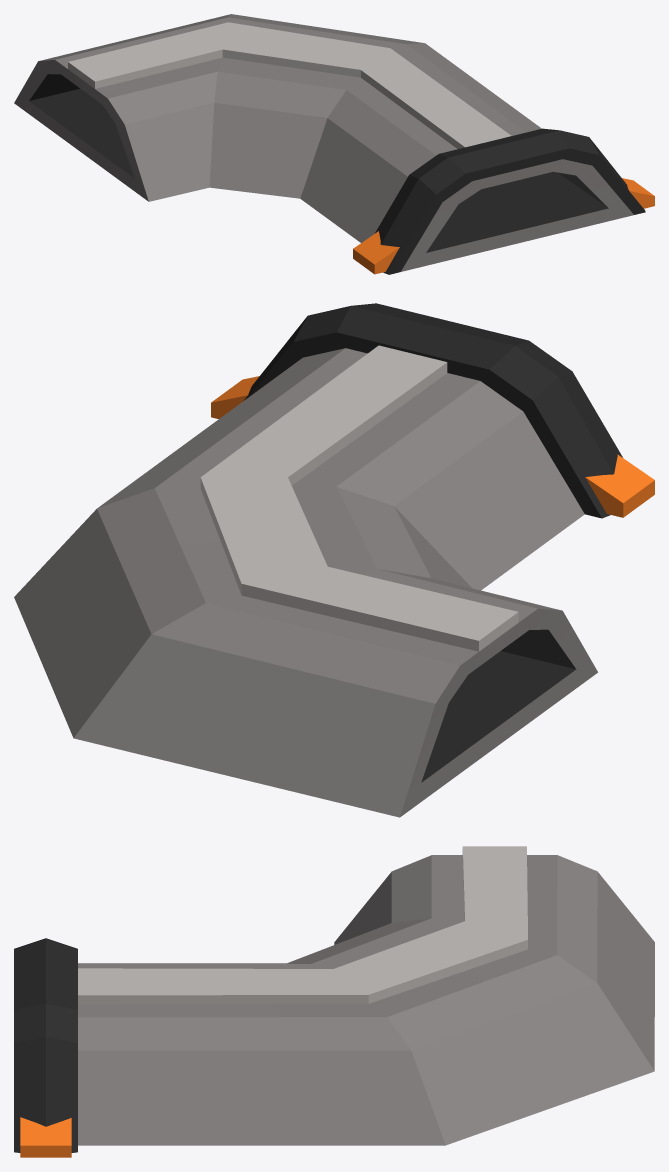
Rendered from scifi_scifi-vent-curve.fbx.
3 views of the same model, one above another, from view 1: azimuth 30°, elevation 25°; view 2: azimuth 150°, elevation 25°; view 3: azimuth 270°, elevation 25° (orthographic). The views are drawn at different scales.
Visible parts, largest first — view 1: scifi_scifi_vent_curve; view 2: scifi_scifi_vent_curve; view 3: scifi_scifi_vent_curve.
Boxes of the visible parts, left/top/right/bottom form: scifi_scifi_vent_curve: left=14, top=14, right=654, bottom=274; scifi_scifi_vent_curve: left=14, top=303, right=654, bottom=817; scifi_scifi_vent_curve: left=14, top=846, right=654, bottom=1157.
Size of the model in its own units: 160 by 36.88 by 200.
